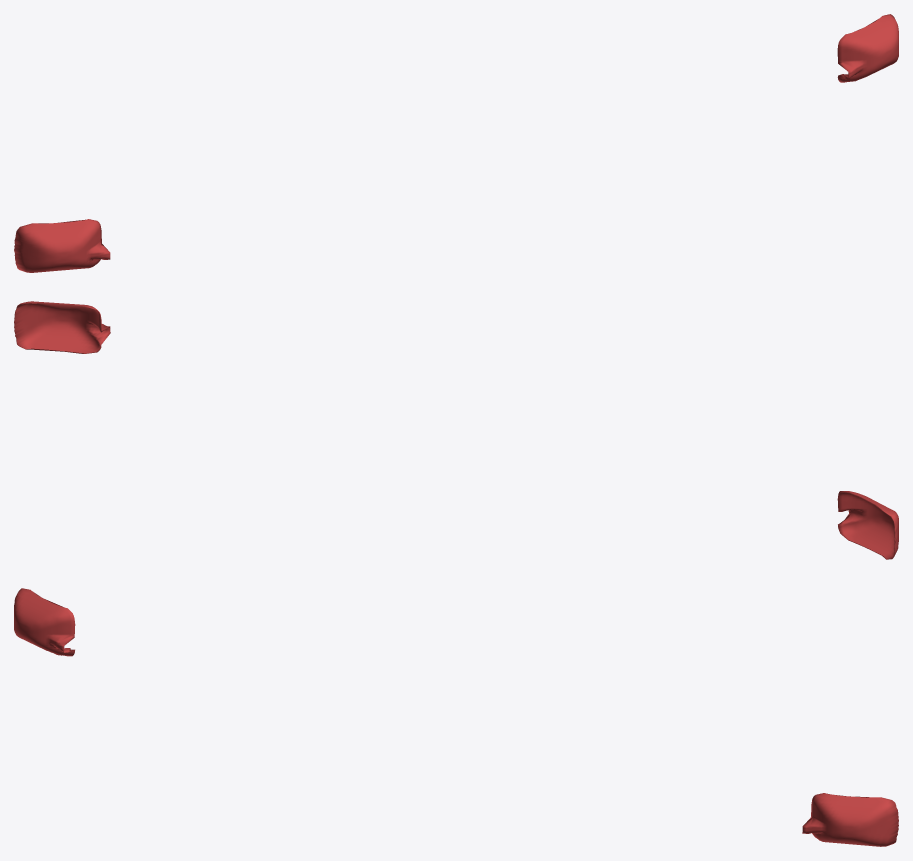
The model's file is DT75_mirror_caps_accent.glb.
3 views of the same model, one above another, from view 1: azimuth 30°, elevation 25°; view 2: azimuth 150°, elevation 25°; view 3: azimuth 330°, elevation 25° (orthographic).
Parts seen in each view (by area): view 1: MOD_NA_DT75_cap_R, MOD_NA_DT75_cap_L; view 2: MOD_NA_DT75_cap_L, MOD_NA_DT75_cap_R; view 3: MOD_NA_DT75_cap_L, MOD_NA_DT75_cap_R.
Boxes of the visible parts, left/top/right/bottom form: MOD_NA_DT75_cap_R: left=14, top=219, right=110, bottom=272; MOD_NA_DT75_cap_L: left=837, top=14, right=898, bottom=82; MOD_NA_DT75_cap_L: left=14, top=301, right=110, bottom=353; MOD_NA_DT75_cap_R: left=837, top=491, right=898, bottom=559; MOD_NA_DT75_cap_L: left=802, top=793, right=898, bottom=846; MOD_NA_DT75_cap_R: left=14, top=588, right=75, bottom=656.
Size of the model in its own units: 1.82 by 0.0937 by 0.0909.
